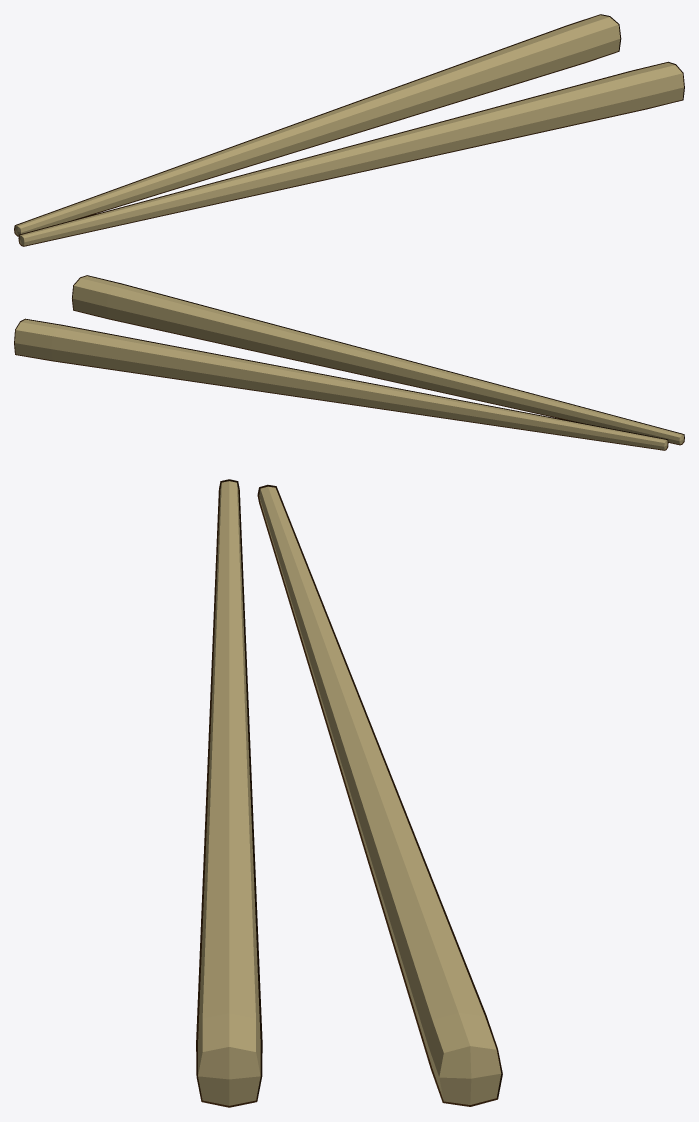
File: Chopsticks_Variation2_(Outlined)v002.fbx
3 views of the same model, one above another, from view 1: azimuth 30°, elevation 25°; view 2: azimuth 150°, elevation 25°; view 3: azimuth 270°, elevation 25° (orthographic). The views are drawn at different scales.
Parts seen in each view (by area): view 1: Chopsticks; view 2: Chopsticks; view 3: Chopsticks.
Part boxes in pixels (x1,y1,x2,y2): Chopsticks: (14, 14, 684, 246); Chopsticks: (14, 275, 684, 450); Chopsticks: (196, 479, 502, 1107).
Size of the model in its own units: 3546 by 176 by 776.
